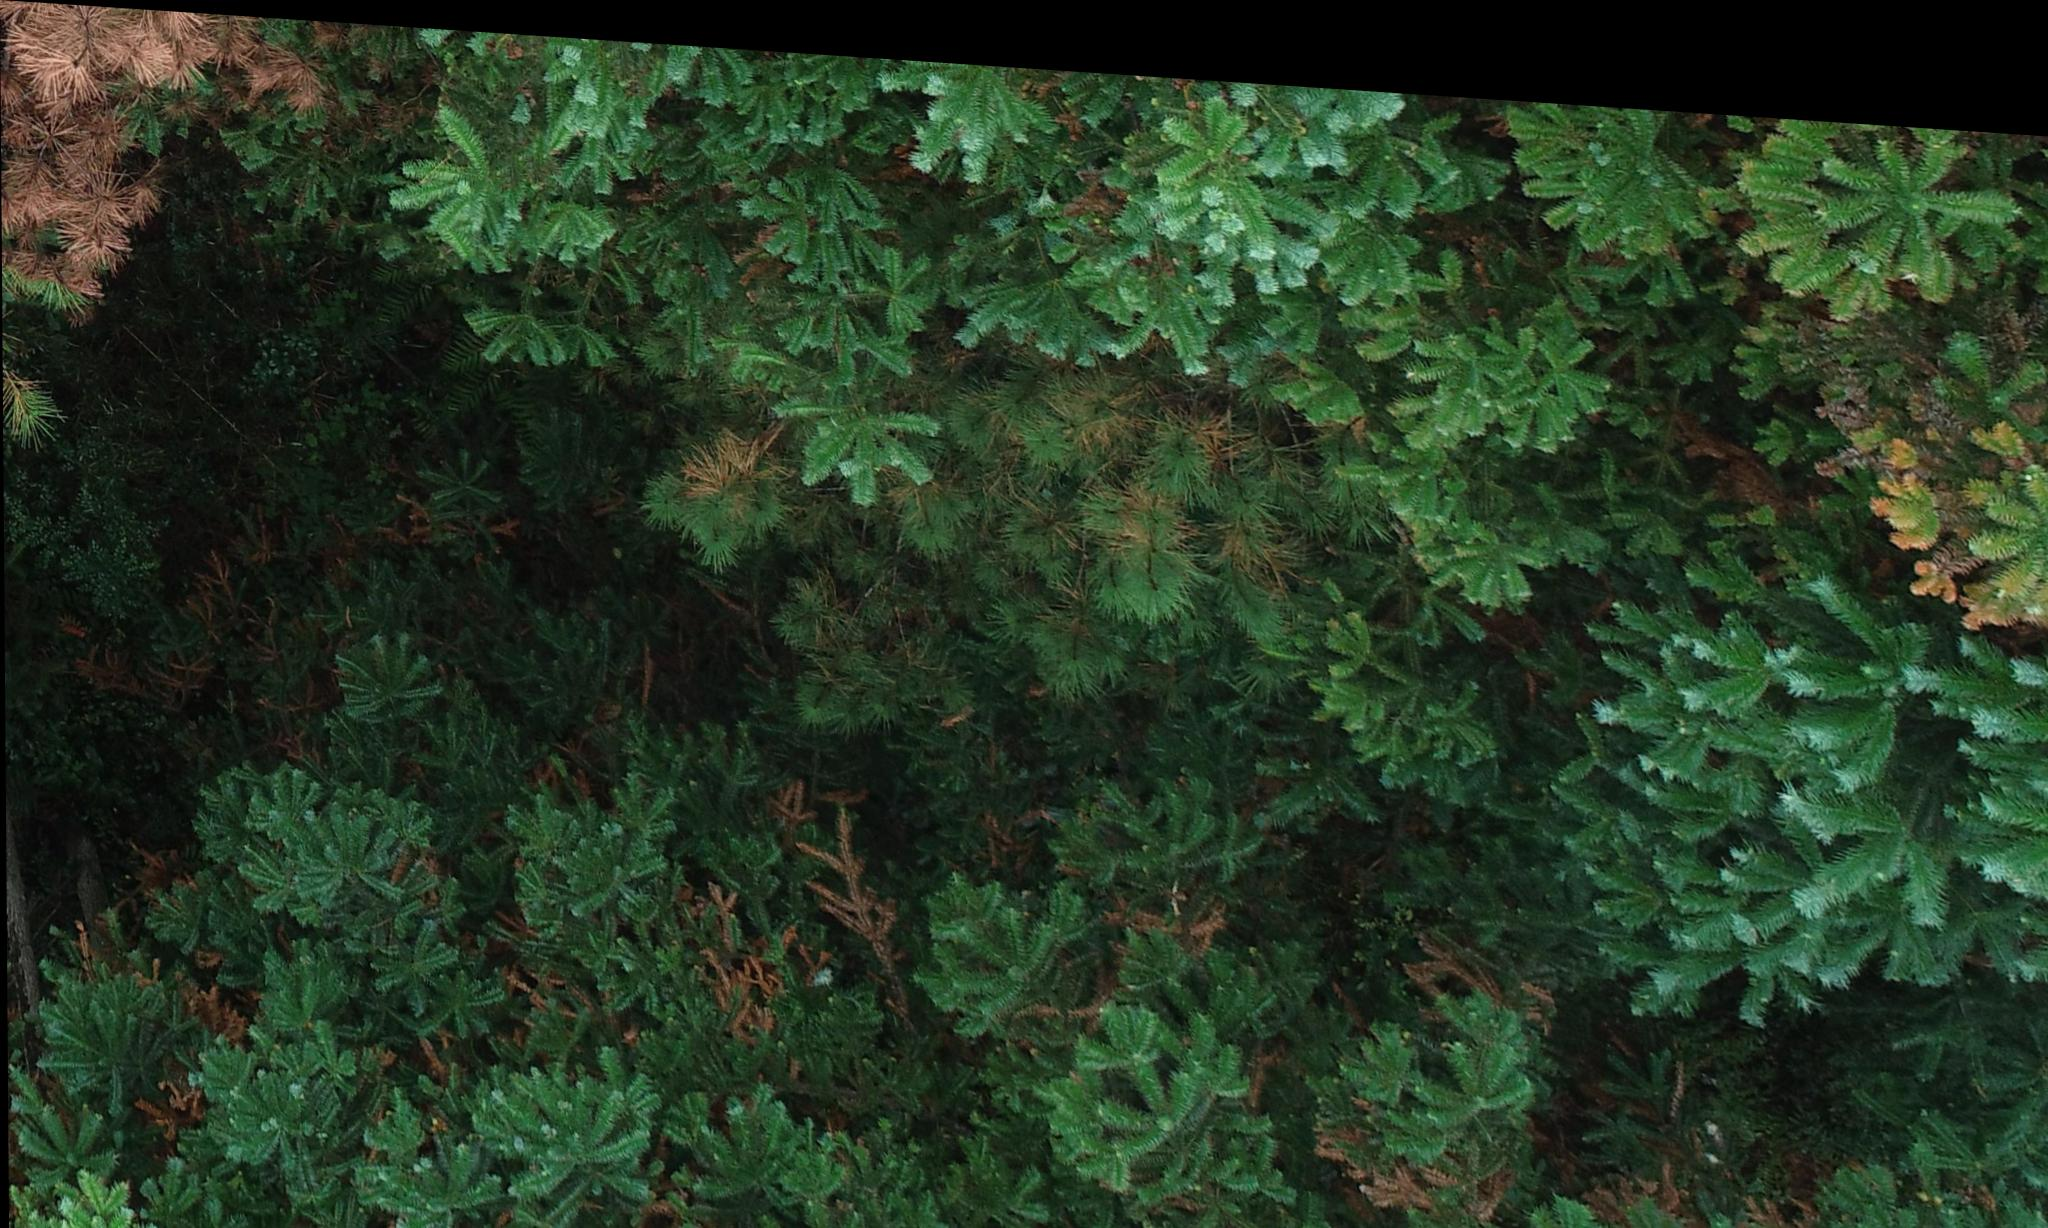heavy: (19, 10, 307, 317)
light: (664, 325, 1349, 833)
